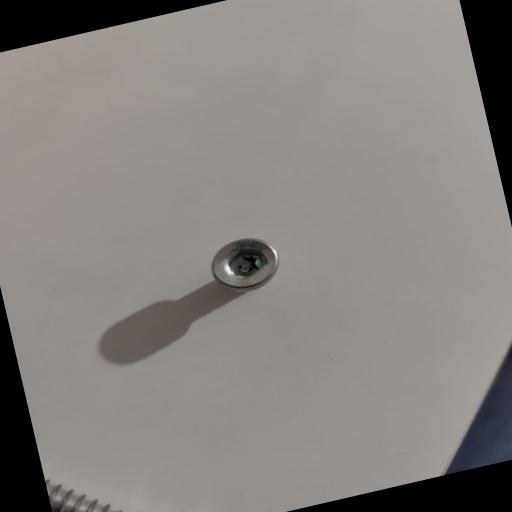Hex-Allen: (194, 218, 300, 308)
